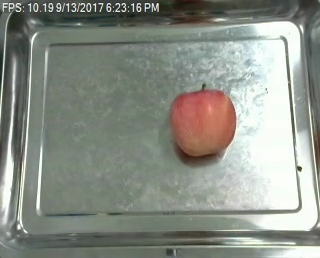Apple: (166, 86, 240, 160)
